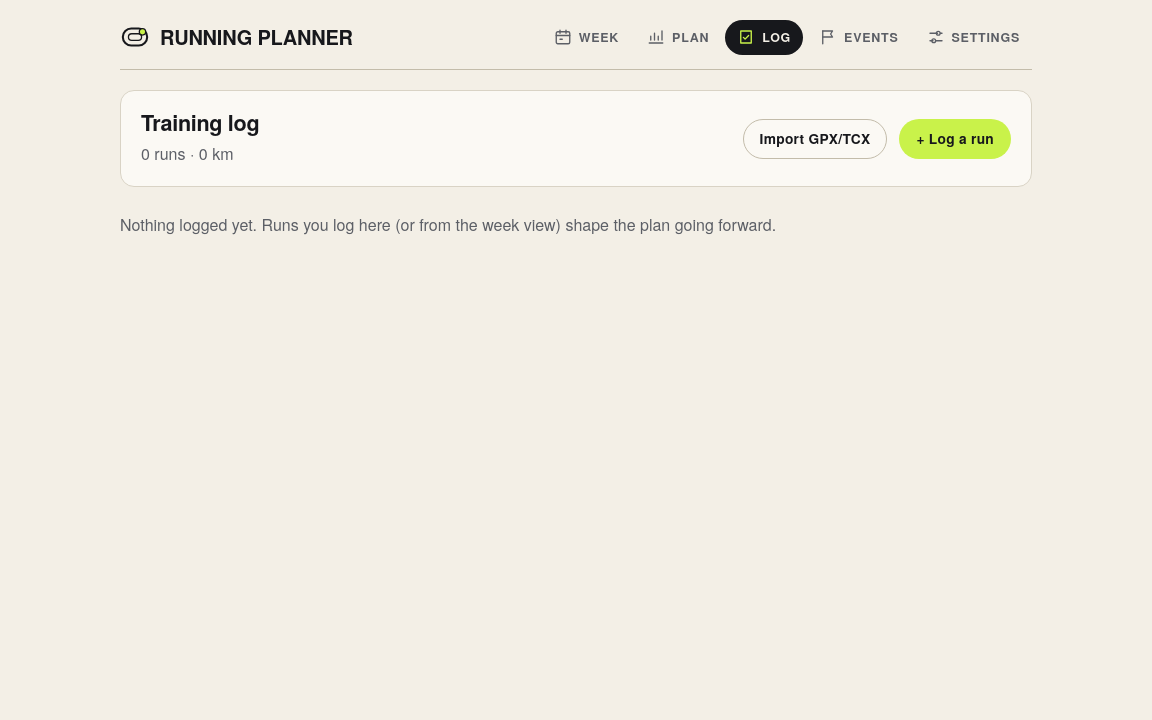
logging past runs › lets the log dialog pick any past date
Step 1. Click the button "+ Log a run" → (955, 139), box [900,119,1011,159]
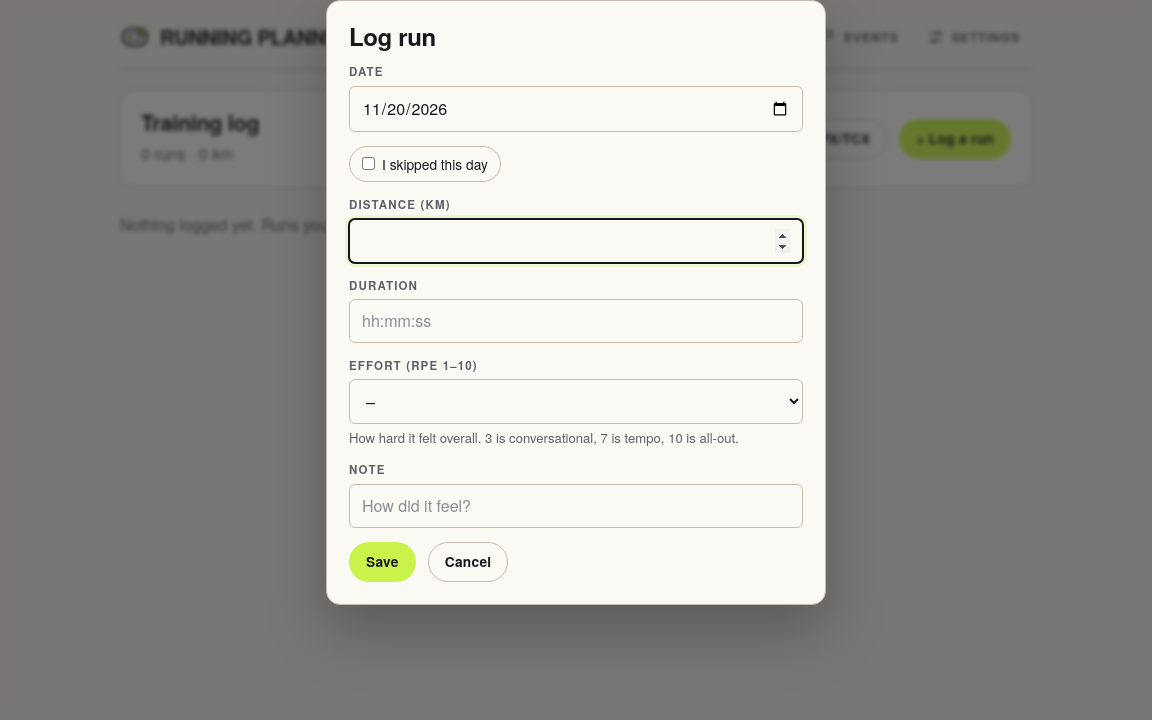
Step 2. Type "2026-11-12" into the date field named "Run date" → (576, 109), box [349,86,803,132]
Step 3. Type "11" into the number field labelled "Distance (km)" → (576, 241), box [349,219,803,263]
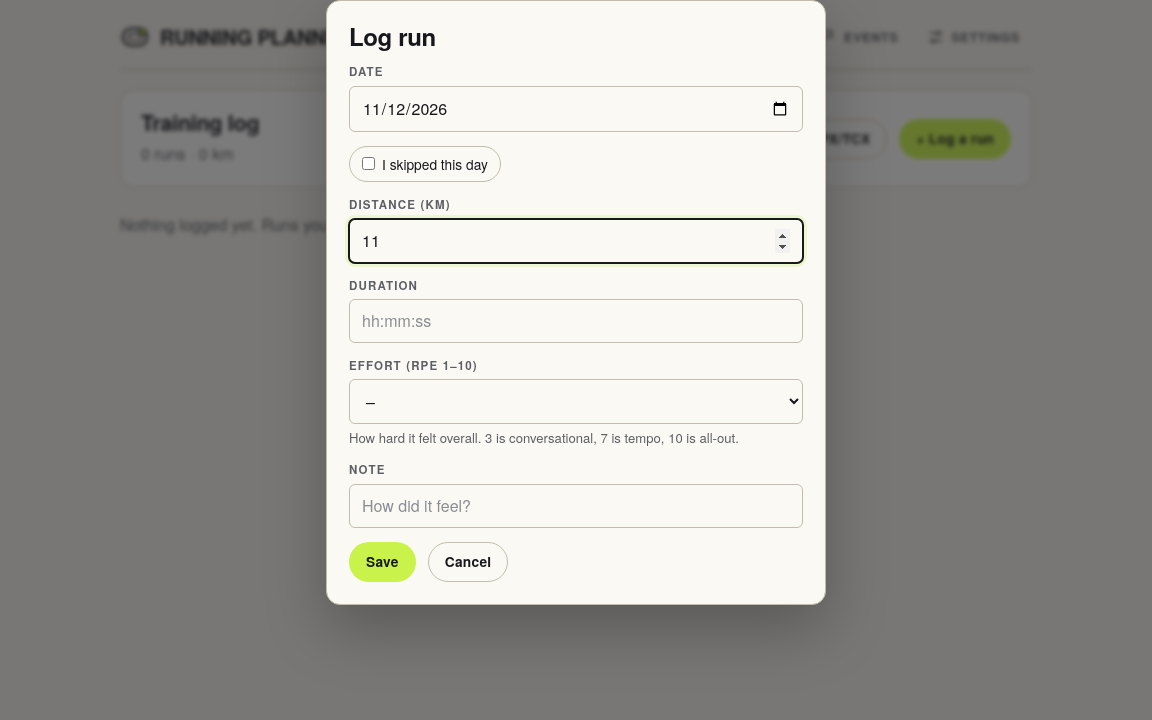
Step 4. Submit the form, box [349,23,803,582]
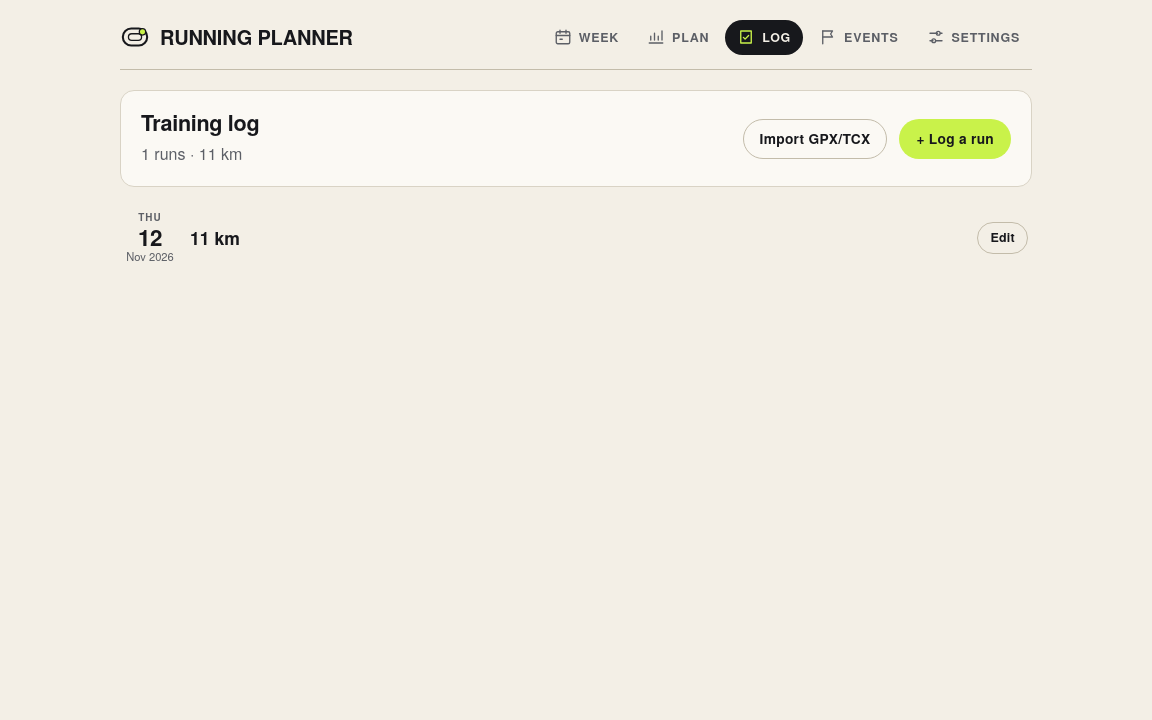
Step 5. Click the button "+ Log a run" → (955, 139), box [900,119,1011,159]
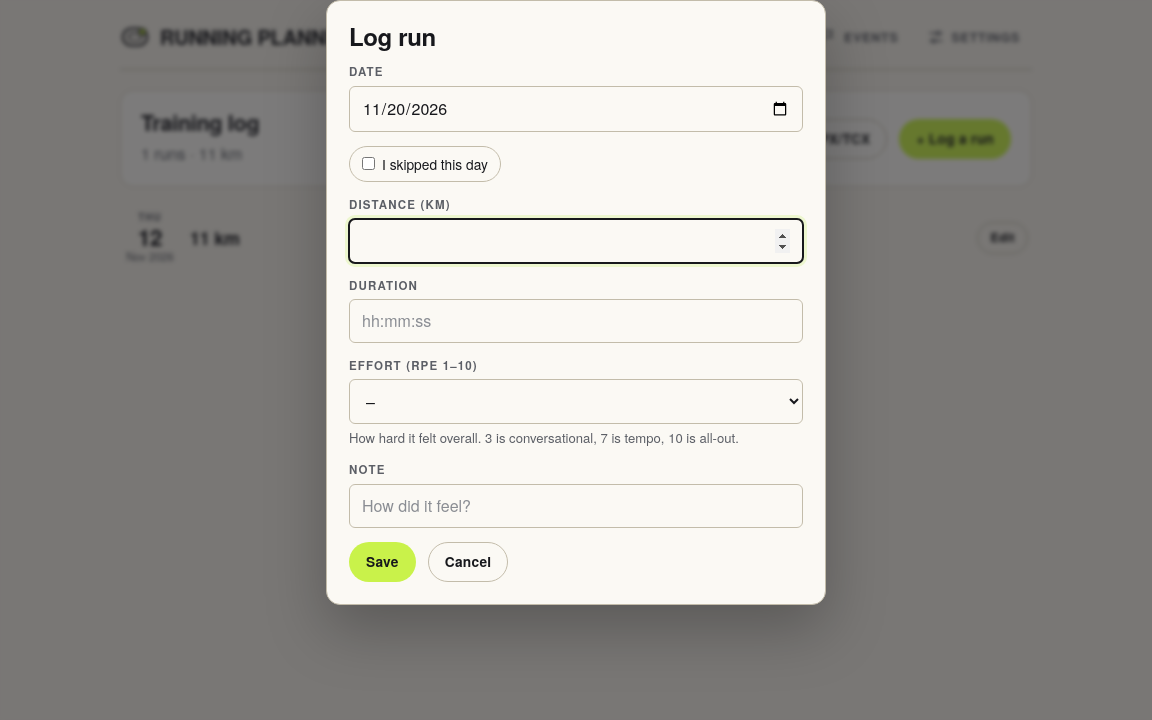
Step 6. Type "2026-11-21" into the date field named "Run date" → (576, 109), box [349,86,803,132]
Step 7. Type "5" into the number field labelled "Distance (km)" → (576, 241), box [349,219,803,263]
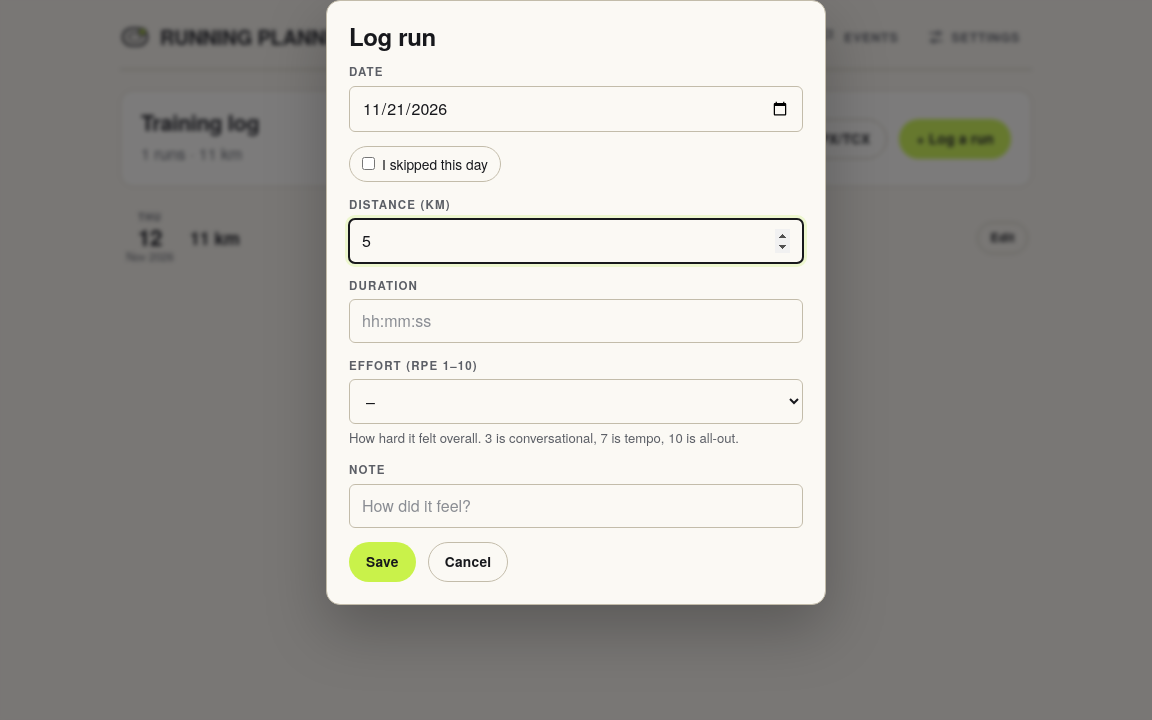
Step 8. Submit the form, box [349,23,803,582]
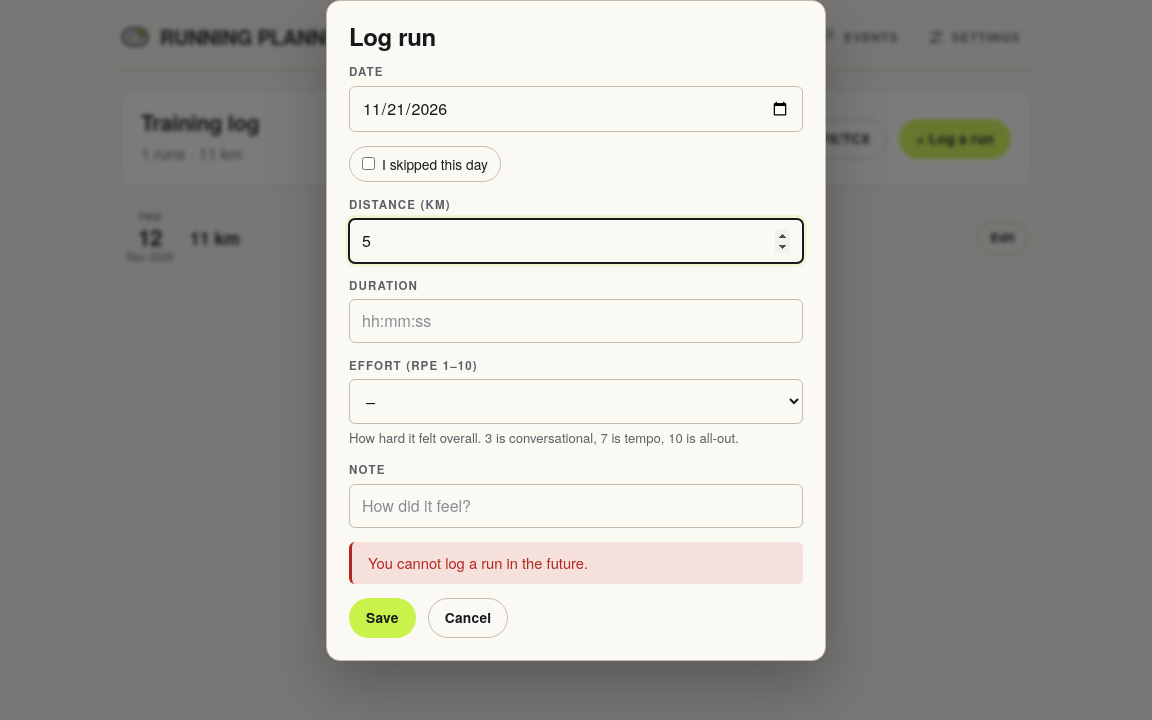
Check: the text "You cannot log a run in the future." is shown, box [349,542,803,584]
